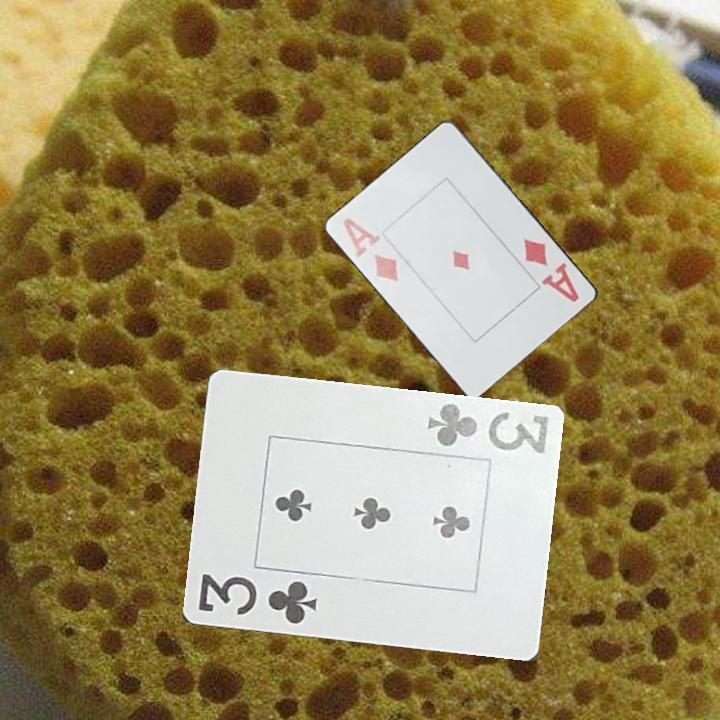3c: (194, 570, 320, 628), (423, 400, 551, 457)
Ad: (519, 234, 582, 305), (340, 214, 402, 285)
